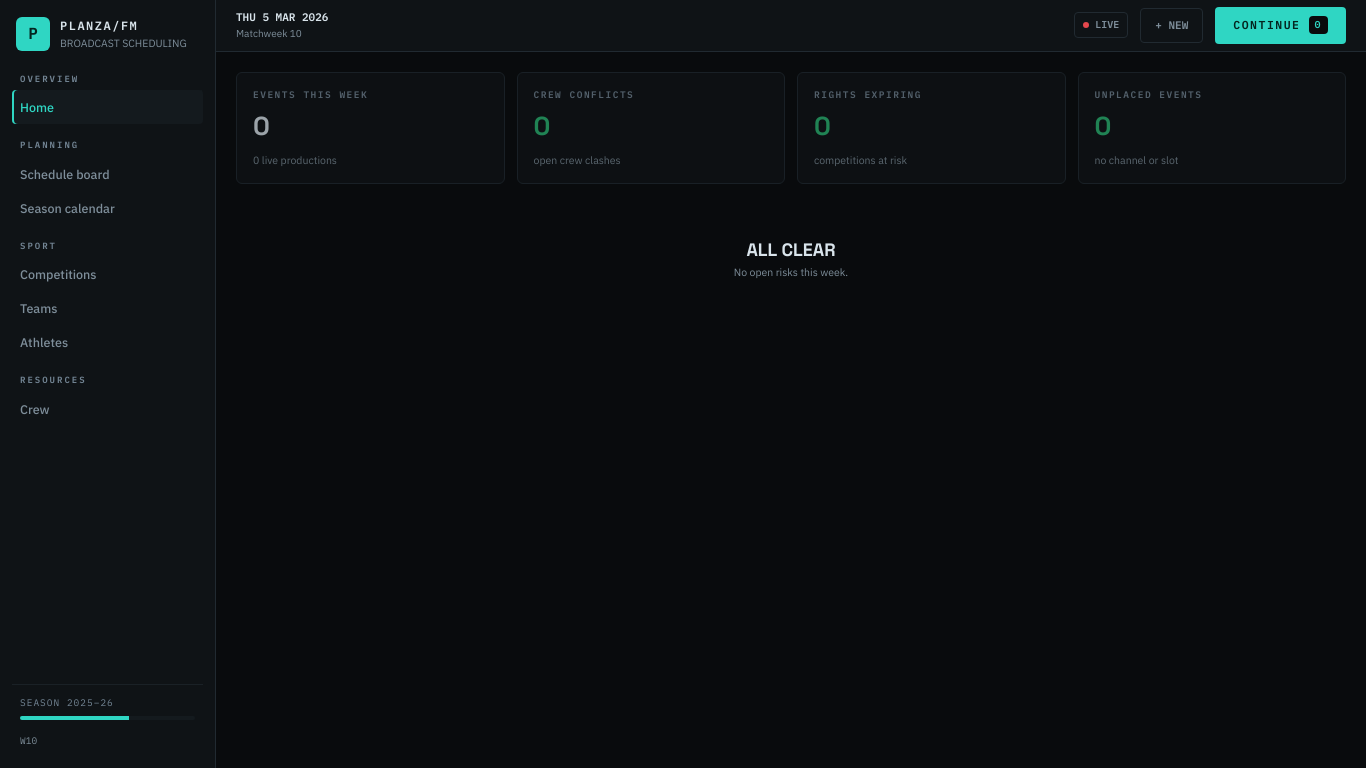
Test case: routing inside the shell (never a 404, never a crash — Story FM1-2 AC) › nav item calendar reaches its placeholder panel
Click the link with test id "fm-nav-calendar" at (67, 208), box [20,200,115,216]
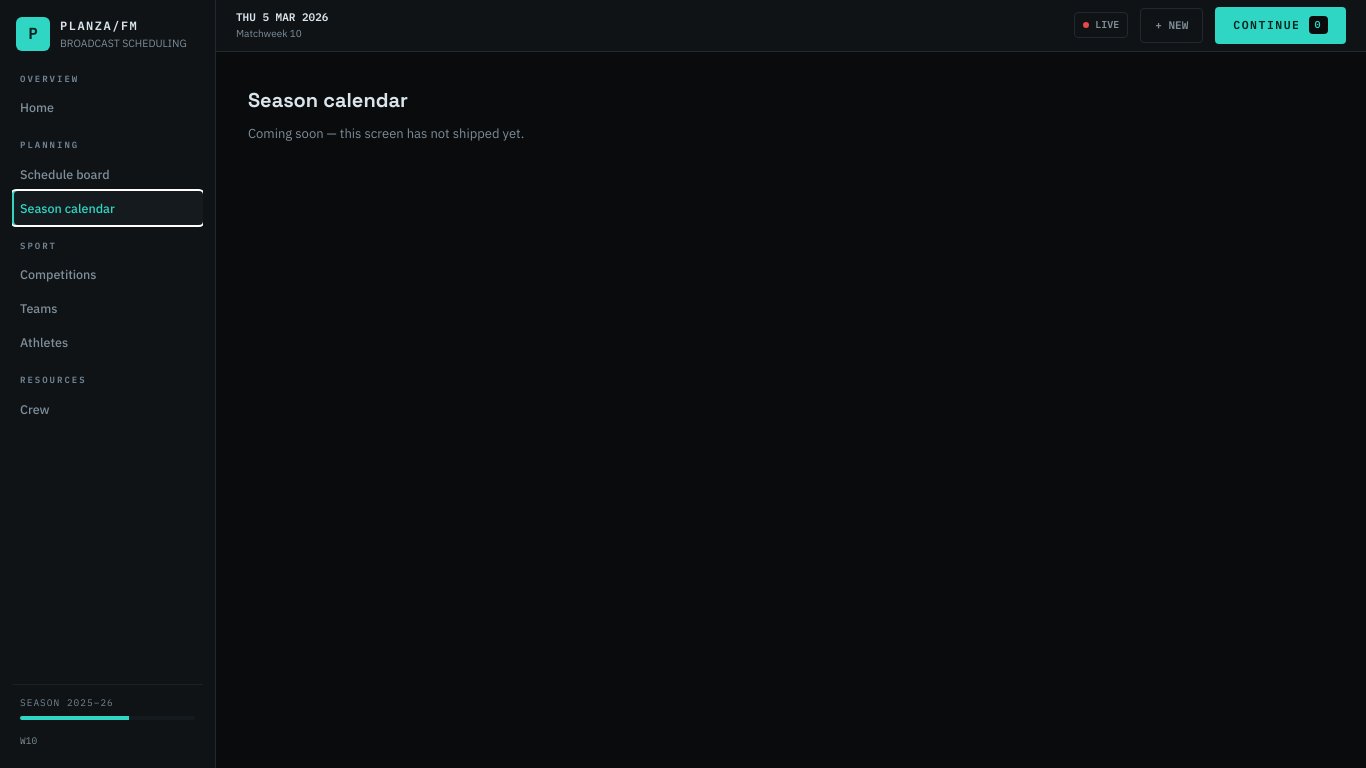
Check: the element with test id "fm-screen-calendar" is shown, box [248,87,524,142]
